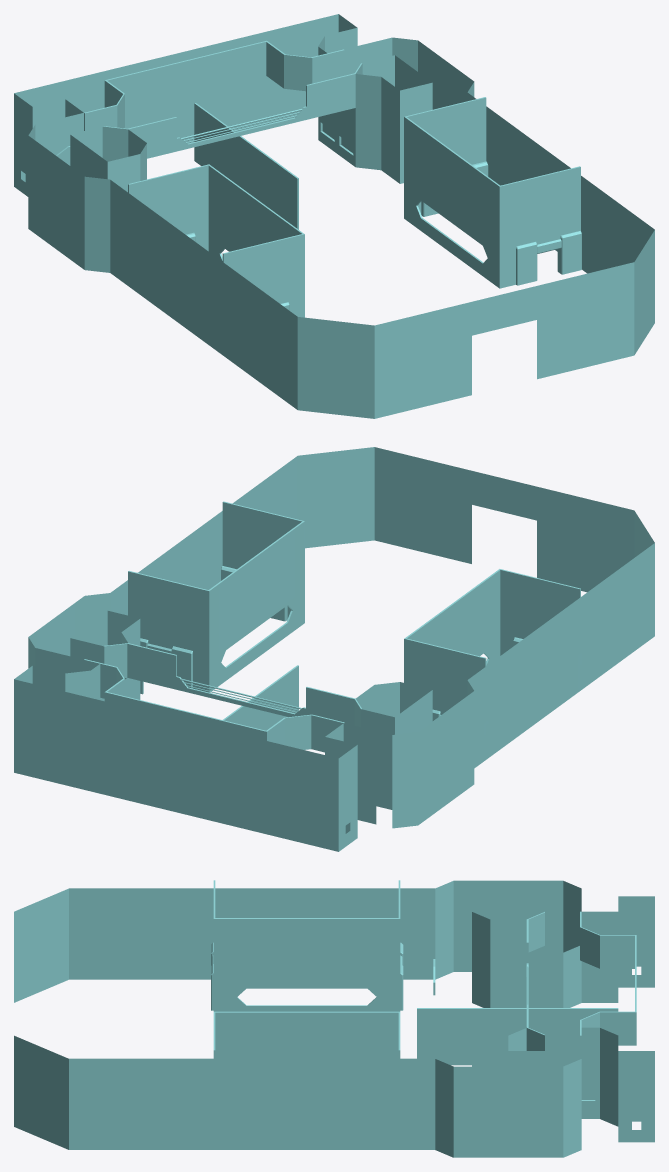
Rendered from Encounter_003_Walls.fbx.
3 renders of one model, top to bottom at view 1: azimuth 30°, elevation 25°; view 2: azimuth 150°, elevation 25°; view 3: azimuth 270°, elevation 25°, orthographic. The views are drawn at different scales.
Parts seen in each view (by area): view 1: Encounter_003_Walls; view 2: Encounter_003_Walls; view 3: Encounter_003_Walls.
Boxes of the visible parts, <box> form: Encounter_003_Walls: <box>14,14,654,418</box>; Encounter_003_Walls: <box>14,447,654,851</box>; Encounter_003_Walls: <box>14,880,654,1157</box>.
Bounding box in the file's own units: 4800 × 1200 × 7000.
